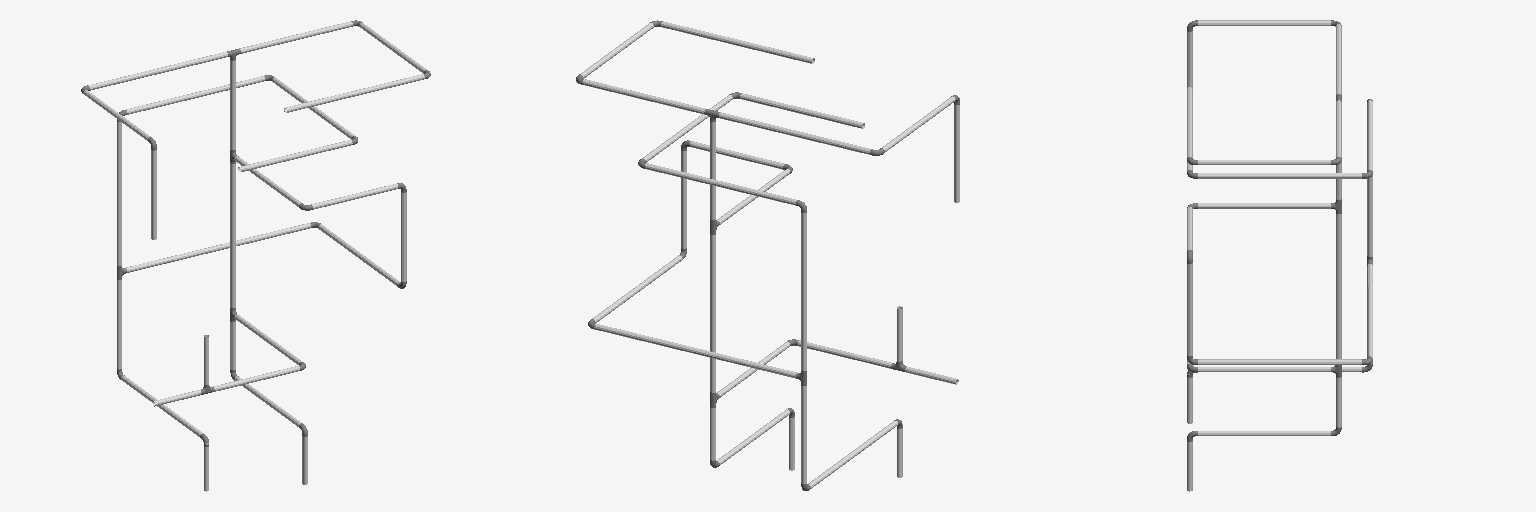
URDF robot description (junctions_pipe):
<?xml version="1.0" encoding="utf-8"?>
<robot
  name="junctions_pipe">
  <link
    name="pipeLink">
    <inertial>
      <origin
        xyz="2.58785046728972 2.30934579439252 1.96346522241511"
        rpy="0 0 0" />
      <mass
        value="154.172025846741" />
      <inertia
        ixx="97.86448232784"
        ixy="-1.81835865608866E-15"
        ixz="-1.22955549712801E-15"
        iyy="97.3768631661768"
        iyz="5.35699903411433E-15"
        izz="125.767716710613" />
    </inertial>
    <visual>
      <origin
        xyz="0 0 0"
        rpy="0 0 0" />
      <geometry>
        <mesh
          filename="package://pir-b-001/meshes/pipeLink.STL" />
      </geometry>
      <material
        name="">
        <color
          rgba="0.858823529411765 0.858823529411765 0.858823529411765 0.1" />
      </material>
    </visual>
    <collision>
      <origin
        xyz="0 0 0"
        rpy="0 0 0" />
      <geometry>
        <mesh
          filename="package://pir-b-001/meshes/pipeLink.STL" />
      </geometry>
      <surface>
        <friction>
          <ode>
            <mu>0.5</mu> 
            <mu2>0.9</mu2> 
          </ode>
        </friction>
      </surface>
    </collision>
  </link>
  <link
    name="junction_link">
    <inertial>
      <origin
        xyz="2.67425290035128 2.29340095776593 1.61480622469642"
        rpy="0 0 0" />
      <mass
        value="85.5647121395593" />
      <inertia
        ixx="0.934353214902451"
        ixy="-2.27822087994246E-06"
        ixz="0.000270621314158882"
        iyy="0.962336832671801"
        iyz="-0.0438571694929339"
        izz="0.895145433693183" />
    </inertial>
    <visual>
      <origin
        xyz="0 0 0"
        rpy="0 0 0" />
      <geometry>
        <mesh
          filename="package://pir-b-001/meshes/junction_link.STL" />
      </geometry>
      <material
        name="">
        <color
          rgba="0.529411764705882 0.549019607843137 0.549019607843137 1" />
      </material>
    </visual>
    <collision>
      <origin
        xyz="0 0 0"
        rpy="0 0 0" />
      <geometry>
        <mesh
          filename="package://pir-b-001/meshes/junction_link.STL" />
      </geometry>
      <surface>
        <friction>
          <ode>
            <mu>0.5</mu> 
            <mu2>0.9</mu2> 
          </ode>
        </friction>
      </surface>
    </collision>
  </link>
  <joint
    name="j1"
    type="fixed">
    <origin
      xyz="0 0 0"
      rpy="0 0 0" />
    <parent
      link="pipeLink" />
    <child
      link="junction_link" />
    <axis
      xyz="0 0 0" />
  </joint>

  <gazebo>
    <static>true</static>
  </gazebo>

  <gazebo reference="pipeLink">
    <material>Gazebo/GreyTransparent</material>
  </gazebo>

  <gazebo reference="junction_link">
    <material>Gazebo/CoM</material>
  </gazebo>

</robot>

--- What the picture shows (computed from the rendered views, not written in the file) ---
The picture shows the robot from 3 angles, left to right: view 1: azimuth 30°, elevation 25°; view 2: azimuth 150°, elevation 25°; view 3: azimuth 270°, elevation 25°; orthographic projection.
Model junctions_pipe with 2 links and 1 joints (1 fixed), rooted at pipeLink, posed every joint at zero.
Links seen in each view (by area): view 1: pipeLink, junction_link; view 2: pipeLink, junction_link; view 3: pipeLink, junction_link.
Boxes of the visible links, x1,y1,x2,y2 form: pipeLink: (83,21,426,491); junction_link: (81,20,430,446); pipeLink: (581,21,959,488); junction_link: (576,20,959,490); pipeLink: (1187,20,1372,491); junction_link: (1187,20,1372,441).
Bounding box of the posed robot: 8.55 × 4.75 × 11.07 m (x, y, z).
2 mesh visuals loaded from 2 distinct referenced files (2 binary STL).